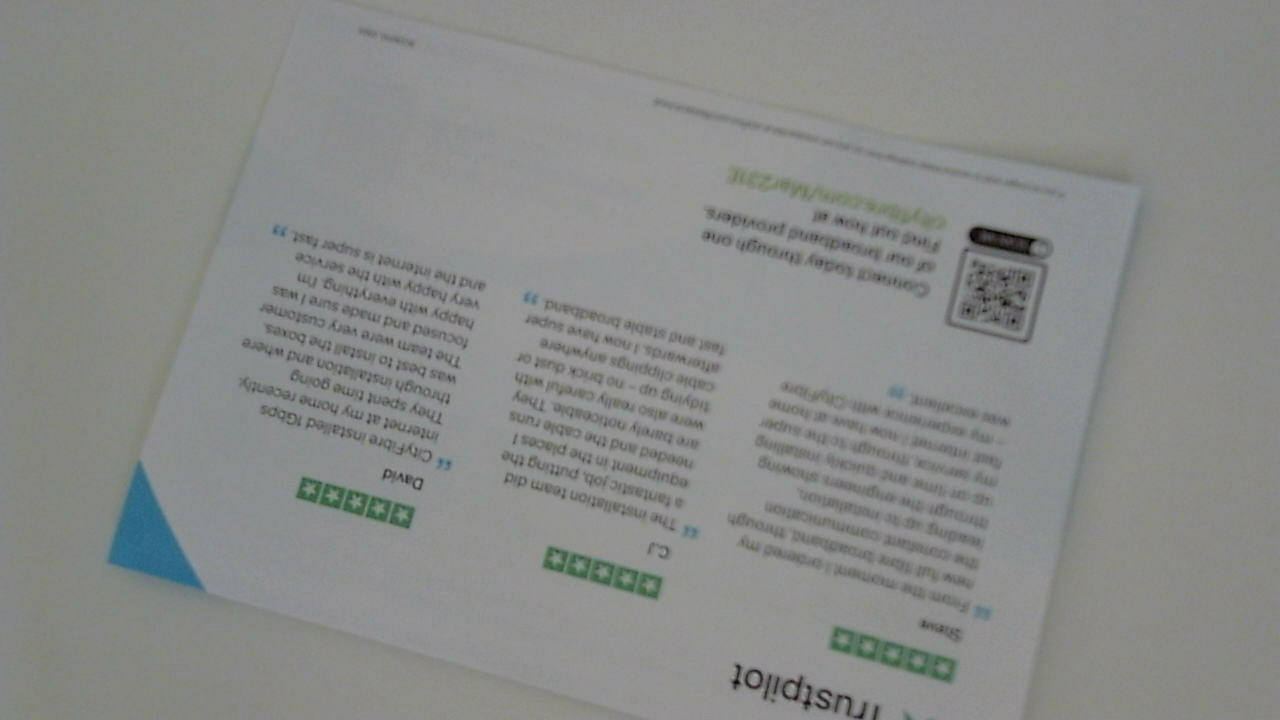Mixed Paper: (103, 8, 1154, 720)
